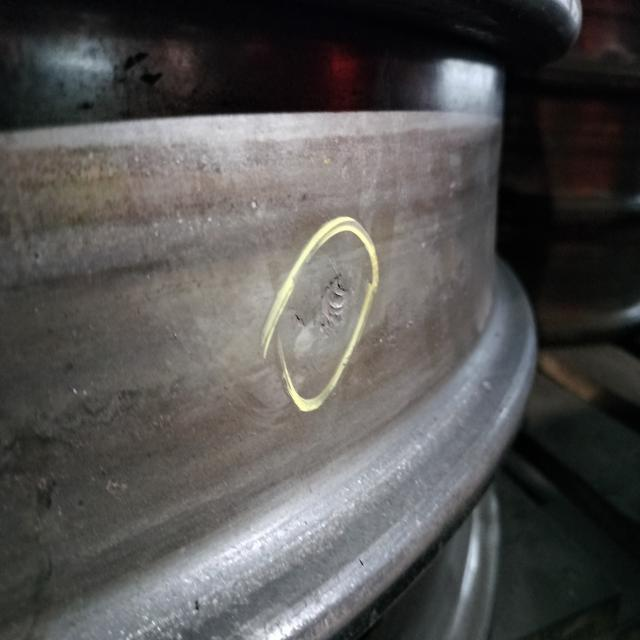Rollerpile: (295, 272, 350, 334)
